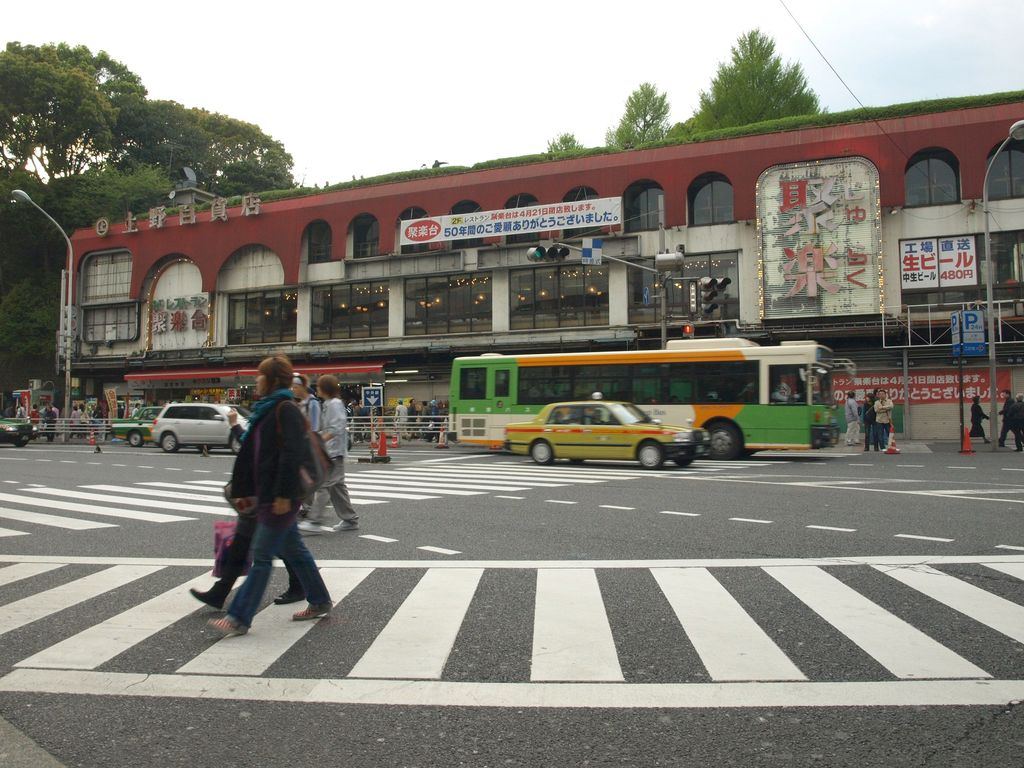Car: (501, 389, 711, 471), (149, 398, 257, 455)
